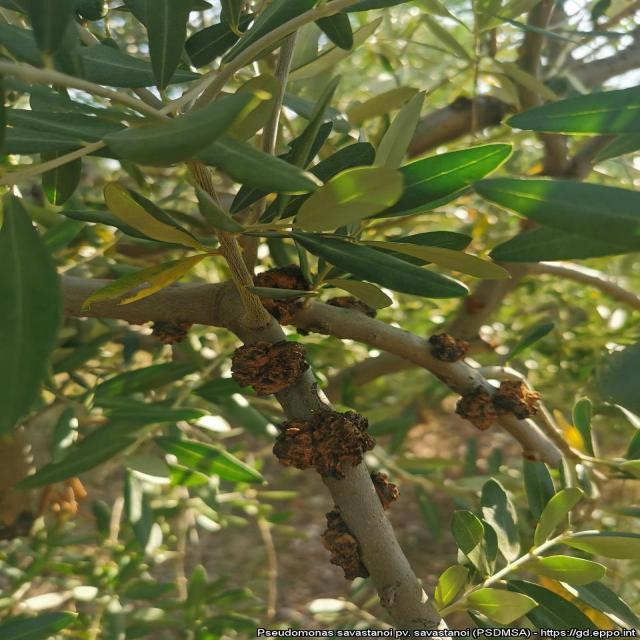Tuberculosis: (274, 406, 374, 479), (232, 341, 310, 396), (321, 509, 368, 580), (492, 381, 539, 419), (456, 389, 499, 430), (255, 264, 306, 290), (370, 472, 399, 509), (326, 297, 376, 318), (262, 298, 300, 325), (430, 334, 466, 362), (152, 322, 190, 345)
